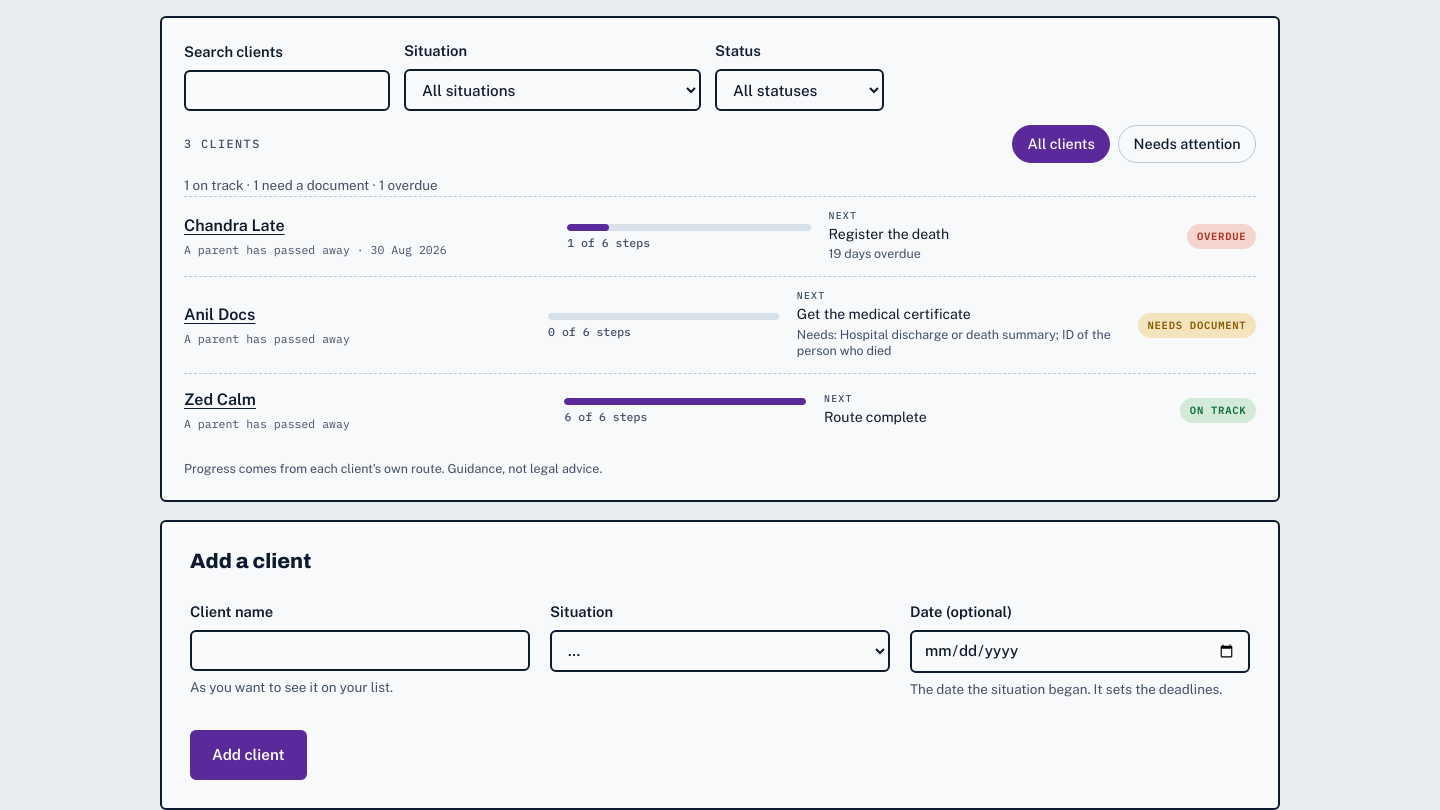
Test: Pro: the dashboard › adds a client and opens their route
(page scrolled)
Expected: the text "Chandra Late" is shown, left=184, top=216, right=285, bottom=235
Type "Nisha Rao" into the field labelled "Client name".
click(360, 650); type("Nisha Rao")  # box left=190, top=630, right=530, bottom=671
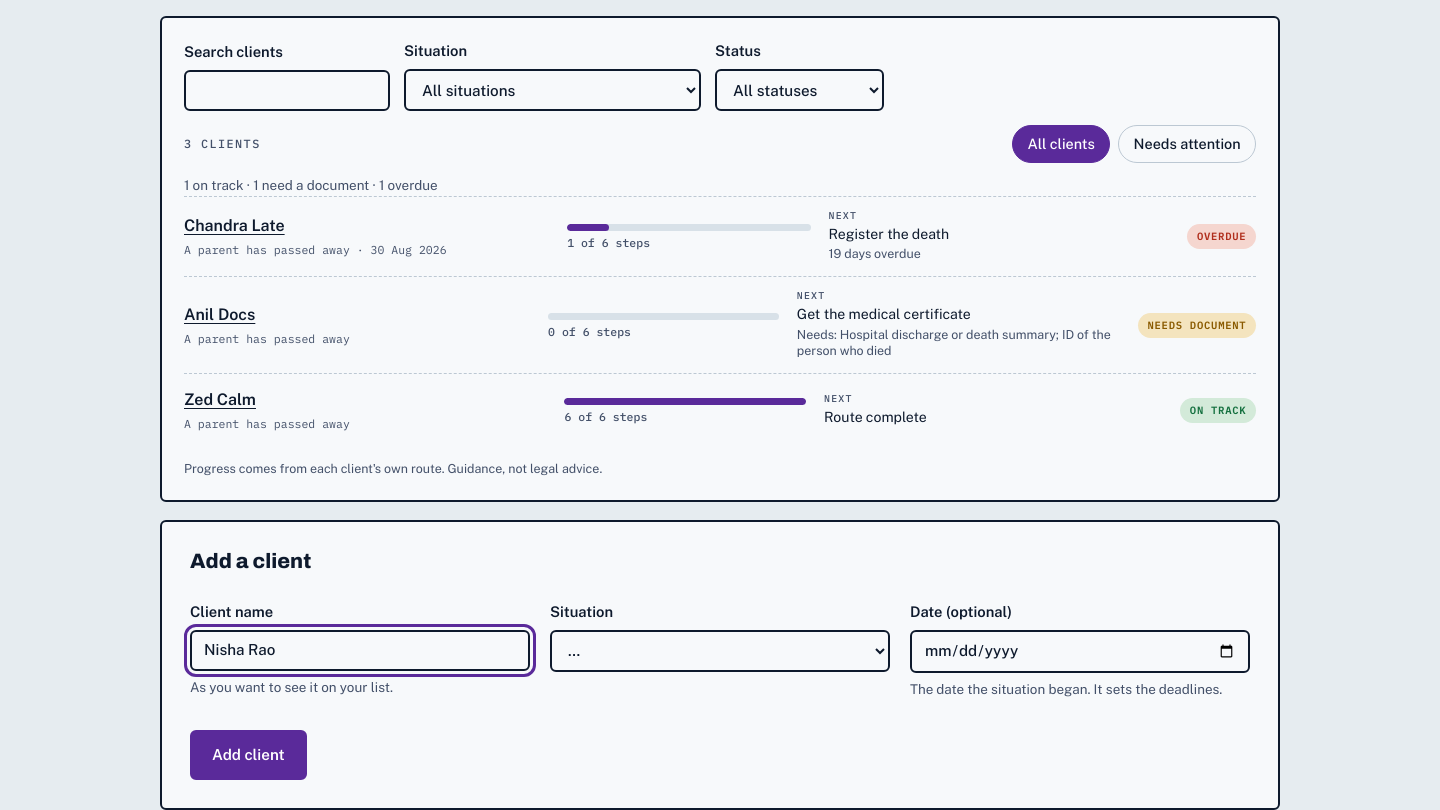
Select "A parent has passed away" in the dropdown labelled "Situation" below "Date (optional)" at coordinates (720, 651), box left=550, top=630, right=890, bottom=672
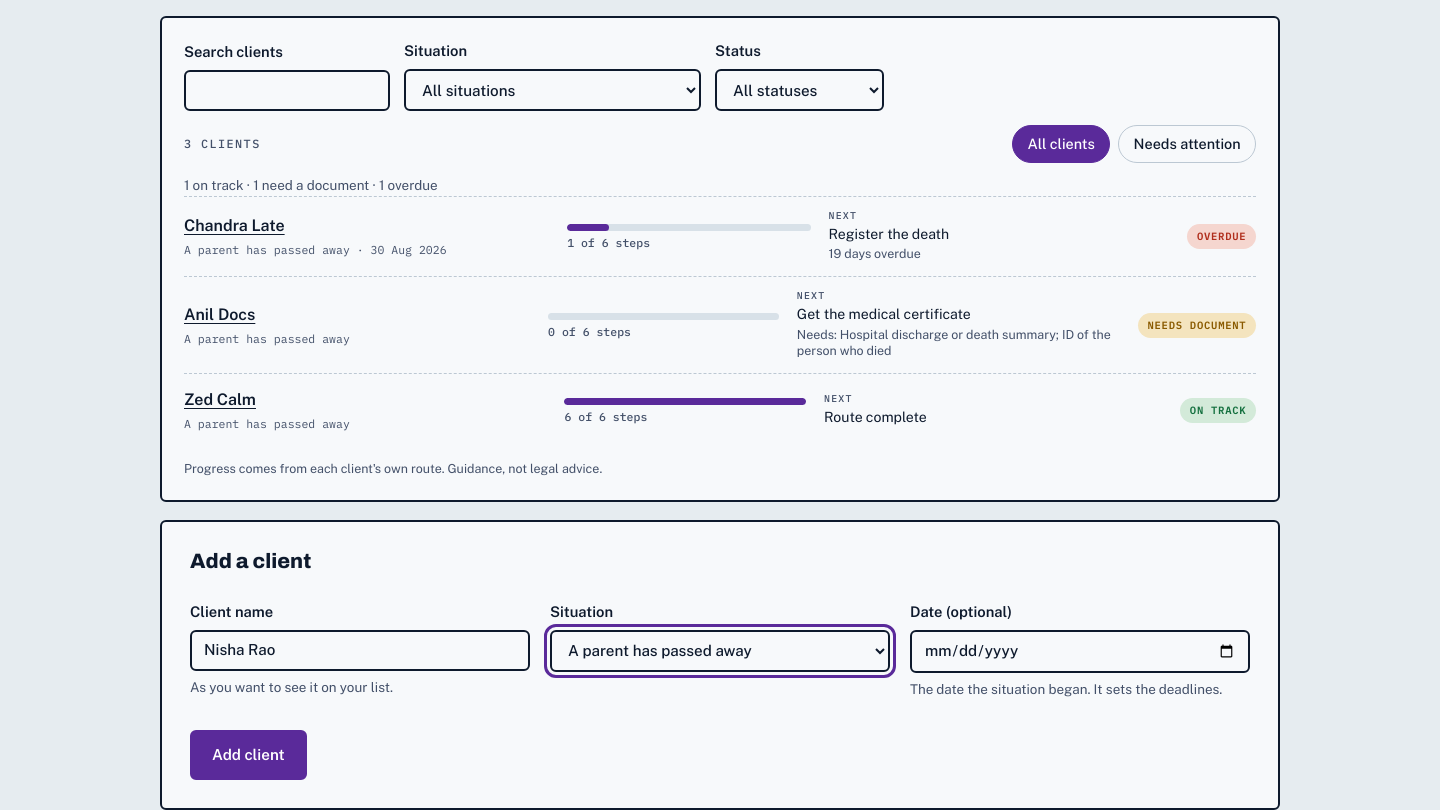
Type "2026-09-20" into the date field labelled "Date (optional)".
click(1080, 651); type("2026-09-20")  # box left=910, top=630, right=1250, bottom=673
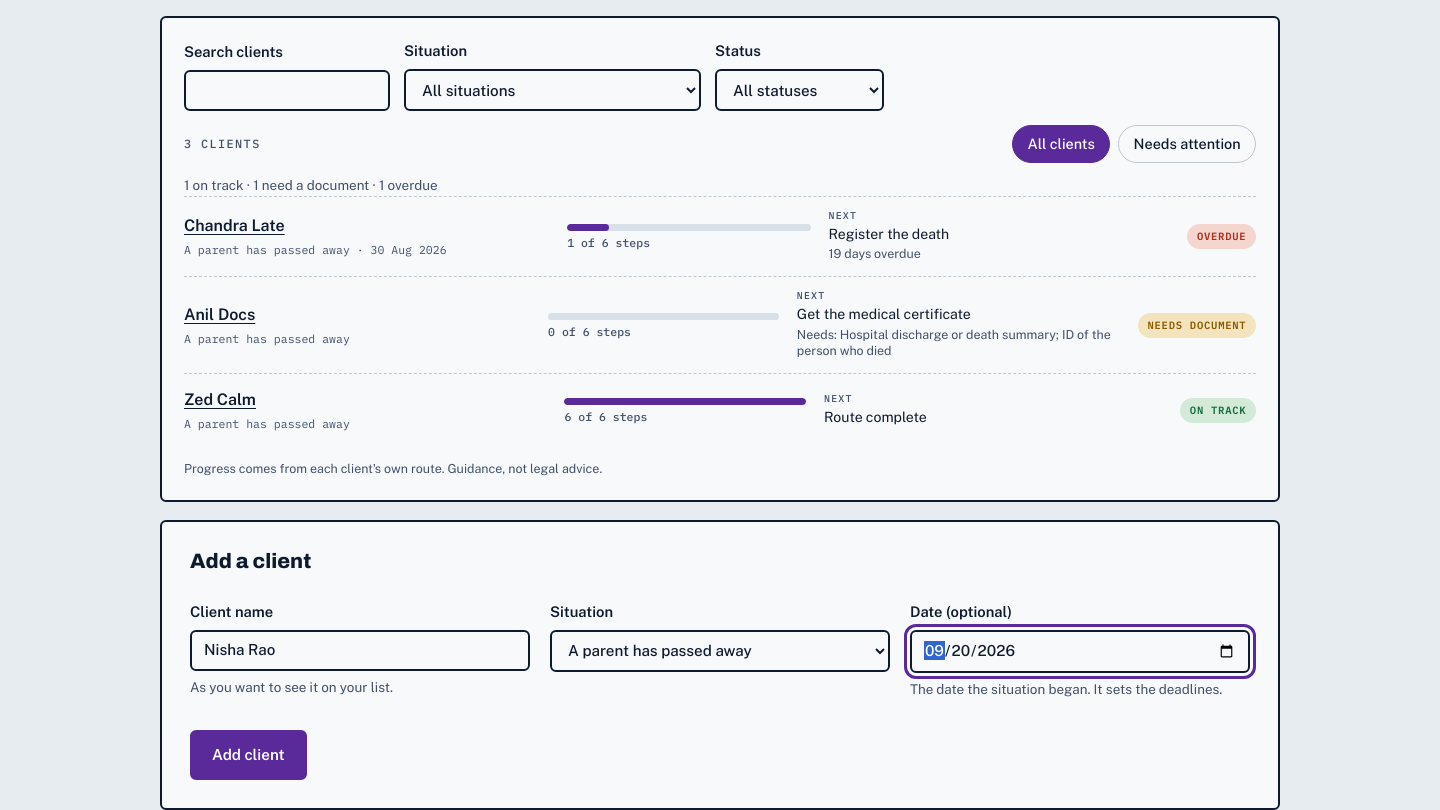
Click the button "Add client".
click(248, 755)  # box left=190, top=730, right=307, bottom=780
(page scrolled)
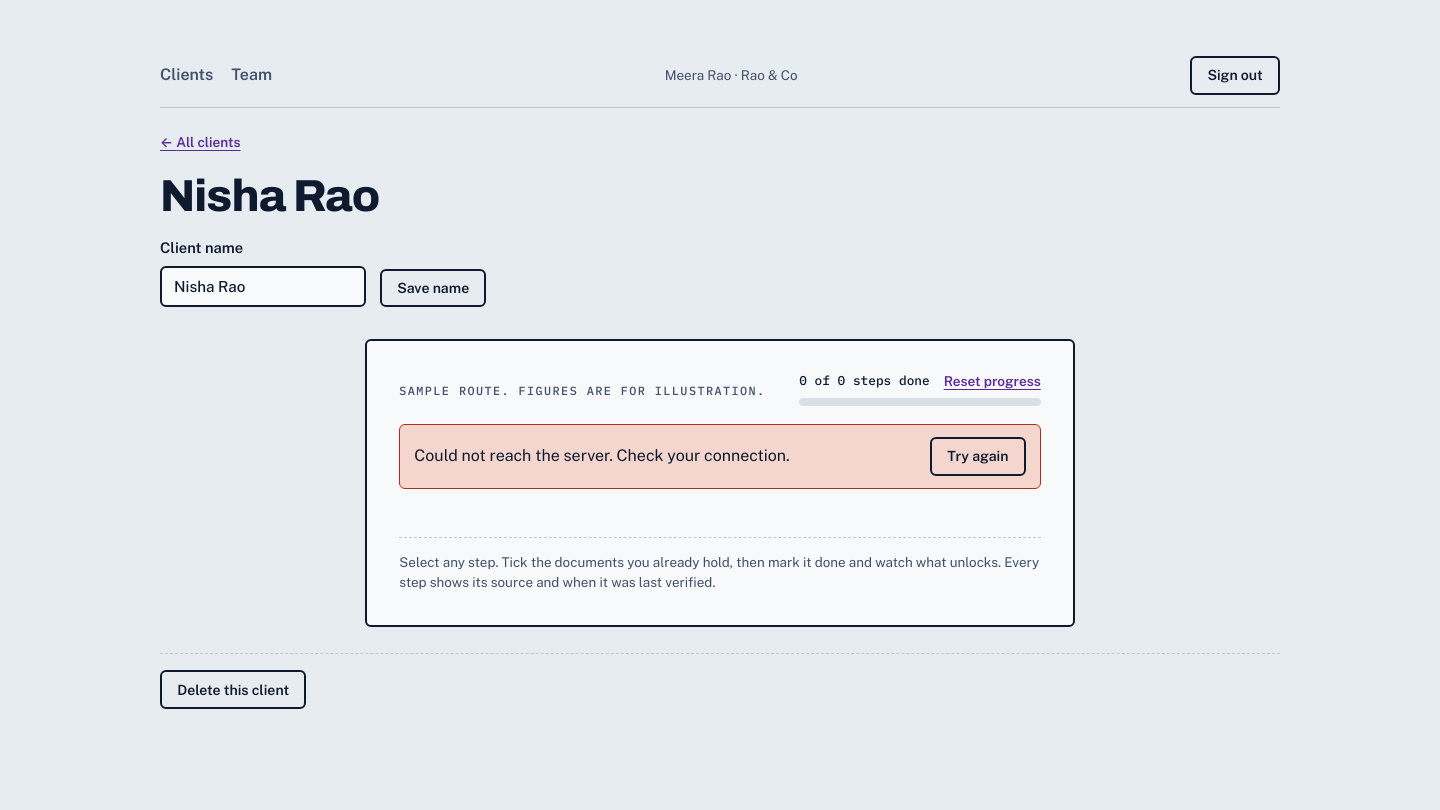
Result: the heading "Nisha Rao" is shown at left=160, top=172, right=379, bottom=220
